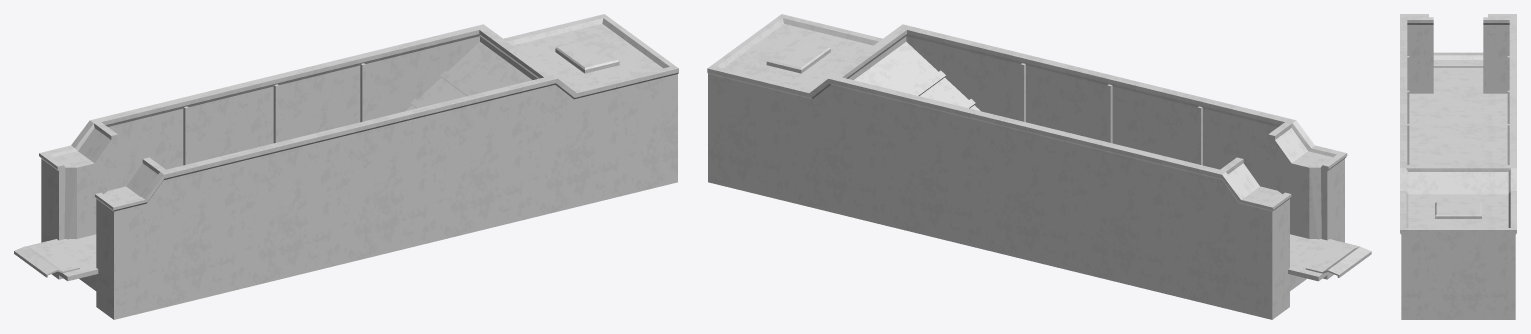
Rendered from Steam Train Coal_A_001.fbx.
3 renders of one model, left to right at view 1: azimuth 30°, elevation 25°; view 2: azimuth 150°, elevation 25°; view 3: azimuth 270°, elevation 25°, orthographic. The views are drawn at different scales.
Visible parts, largest first — view 1: Steam_Train_Coal_A_001; view 2: Steam_Train_Coal_A_001; view 3: Steam_Train_Coal_A_001.
Part boxes in pixels (left/top/right/bottom): Steam_Train_Coal_A_001: left=14, top=14, right=678, bottom=319; Steam_Train_Coal_A_001: left=707, top=14, right=1371, bottom=319; Steam_Train_Coal_A_001: left=1400, top=14, right=1516, bottom=319.
Size of the model in its own units: 638 by 134 by 135.
3 materials, 3 textured.
